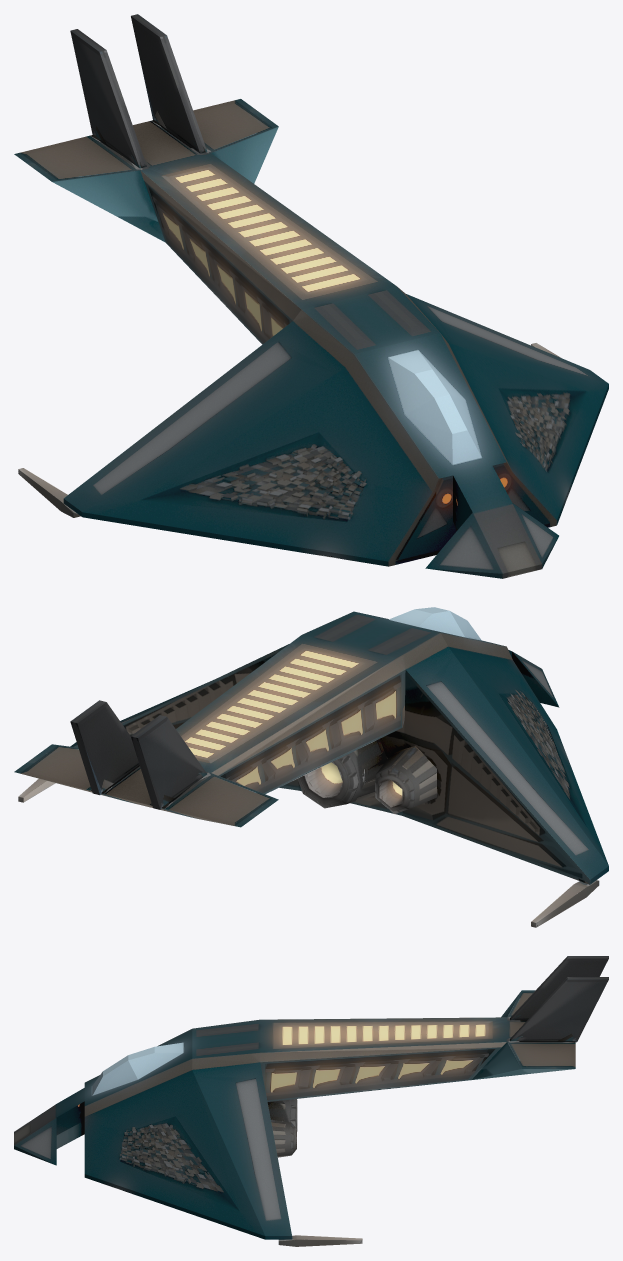
The model's file is vehicle_spacecraft_ship_dart_001_gr_mesh.FBX.
3 views of the same model, one above another, from view 1: azimuth 30°, elevation 25°; view 2: azimuth 150°, elevation 25°; view 3: azimuth 270°, elevation 25° (orthographic). The views are drawn at different scales.
Visible parts, largest first — view 1: vehicle_spacecraft_ship_dart_001_gr; view 2: vehicle_spacecraft_ship_dart_001_gr; view 3: vehicle_spacecraft_ship_dart_001_gr.
Boxes of the visible parts, bbox=[...] form: vehicle_spacecraft_ship_dart_001_gr: bbox=[14, 14, 608, 578]; vehicle_spacecraft_ship_dart_001_gr: bbox=[14, 607, 608, 927]; vehicle_spacecraft_ship_dart_001_gr: bbox=[14, 956, 608, 1246].
Size of the model in its own units: 5.26 by 2.52 by 7.23.
